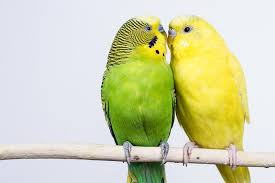budgie: (167, 14, 251, 183), (101, 15, 172, 183)
